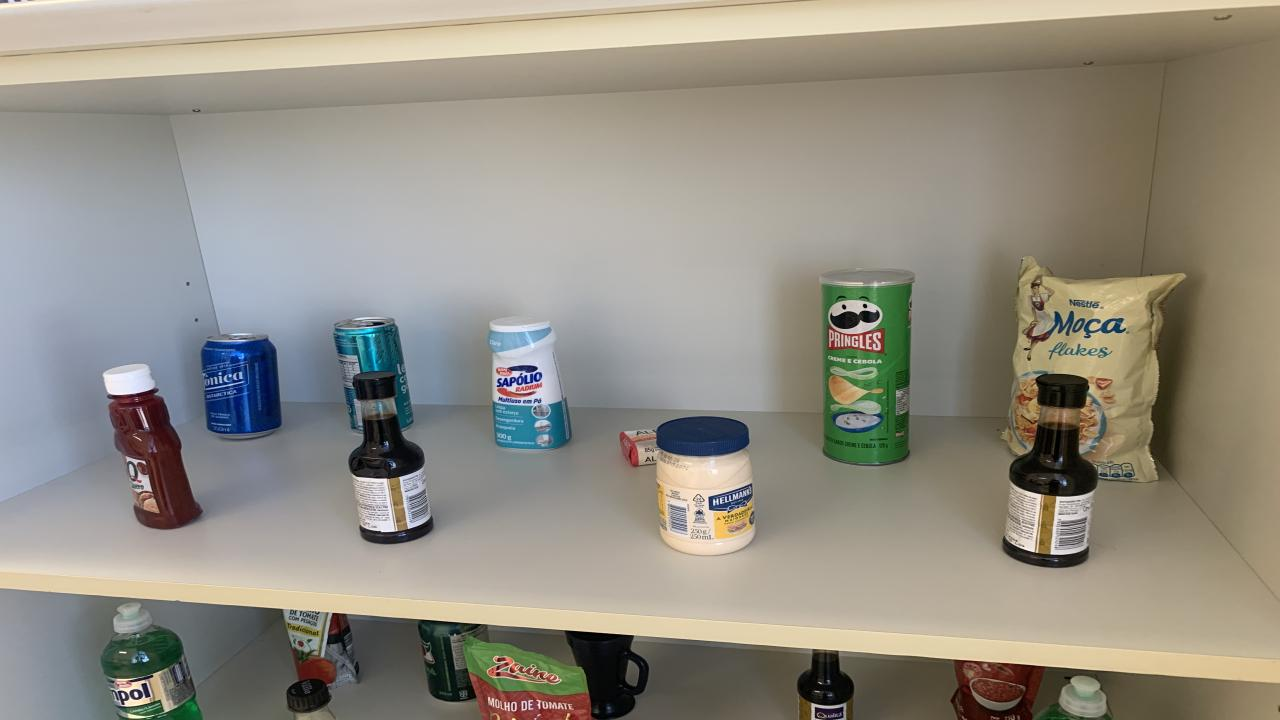Cleaner-Cleanup_Items: (488, 317, 570, 450)
Detergent-Cleanup_Items: (100, 602, 202, 720), (1035, 675, 1112, 720)
English_Sauce-Pantry_Items: (1002, 373, 1098, 568), (350, 371, 432, 544), (798, 649, 855, 720)
Flakes-Snacks: (1002, 257, 1185, 482)
Guarana_Can-Drinks: (418, 621, 488, 701)
Ketchup-Pantry_Items: (102, 364, 202, 529)
Mayonnaise-Pantry_Items: (655, 416, 755, 555)
Pringles-Snacks: (820, 268, 915, 465)
Soap-Cleanup_Items: (620, 429, 660, 467)
Soda-Drinks: (288, 679, 335, 720)
Tea-Drinks: (332, 317, 412, 431)
Tomato_Sauce-Pantry_Items: (462, 638, 592, 720), (282, 609, 360, 688), (950, 660, 1045, 720)
Tonic-Drinks: (202, 334, 282, 439)
